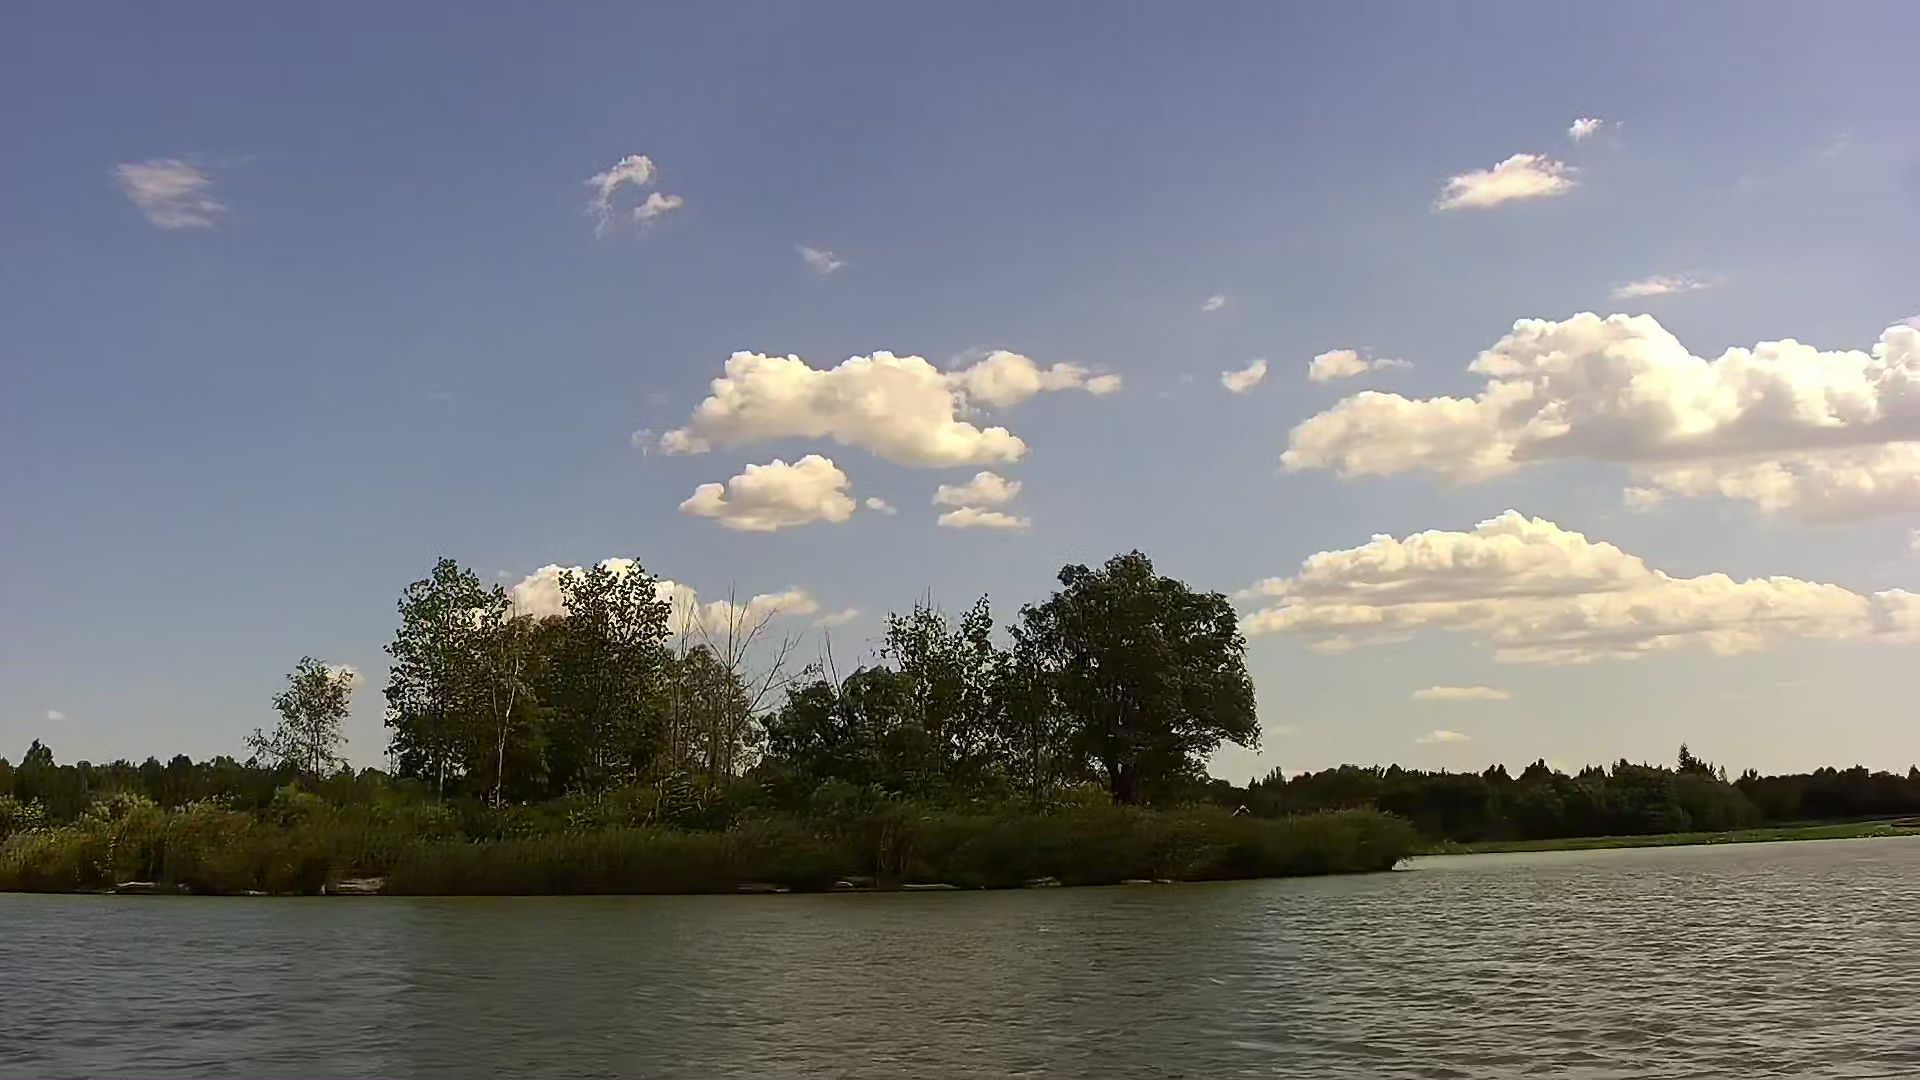rock: (324, 870, 386, 891)
